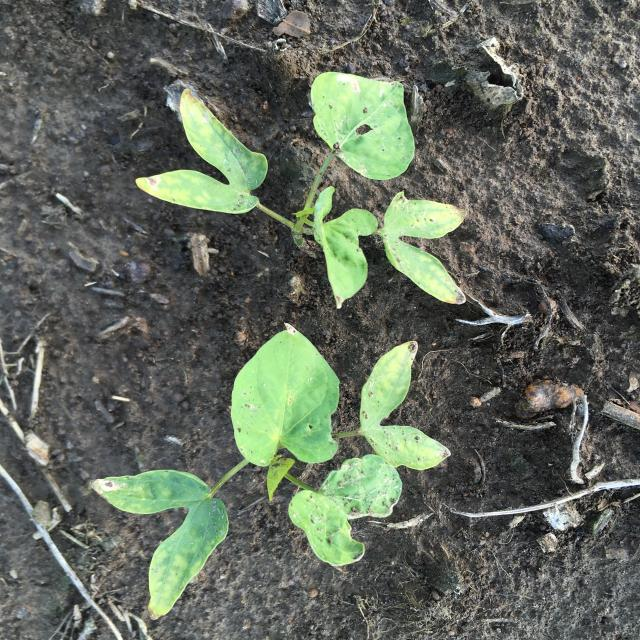MorningGlory: (91, 323, 450, 620), (135, 72, 467, 309)
